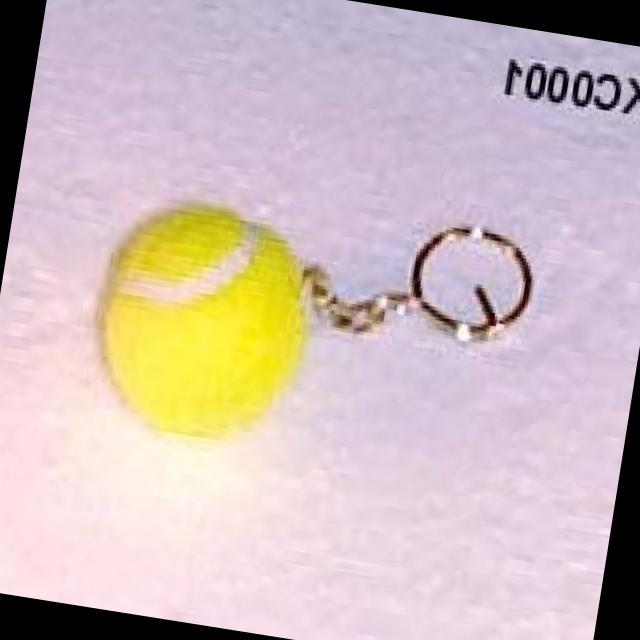Tennis Ball: (93, 202, 313, 448)
